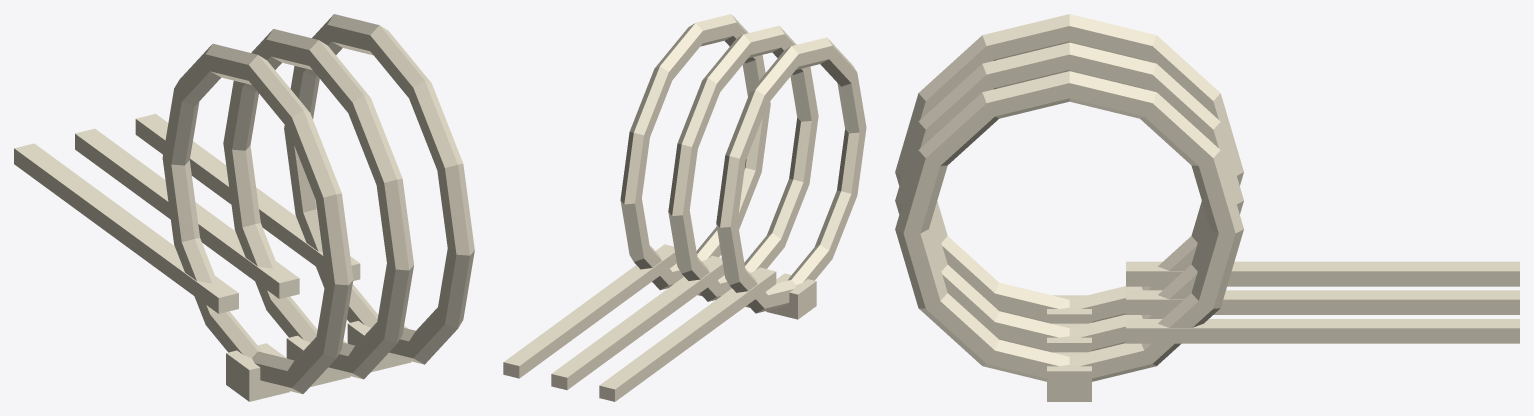
The model's file is Tool_ZipTies.fbx.
3 views of the same model, side by side, from view 1: azimuth 30°, elevation 25°; view 2: azimuth 150°, elevation 25°; view 3: azimuth 270°, elevation 25° (orthographic). The views are drawn at different scales.
Parts seen in each view (by area): view 1: Loop, Loop.001, Loop.002, Tail, Tail.001, Tail.002, Head, Head.001, Head.002; view 2: Loop, Loop.001, Loop.002, Tail, Tail.002, Tail.001, Head; view 3: Loop.002, Loop.001, Loop, Tail.002, Tail, Tail.001, Head.002, Head.001, Head.
Boxes of the visible parts, x1,y1,x2,y2 form: Loop: [162, 44, 353, 393]; Loop.001: [223, 29, 413, 379]; Loop.002: [284, 14, 474, 364]; Tail: [14, 143, 238, 313]; Tail.001: [75, 128, 299, 298]; Tail.002: [135, 114, 360, 280]; Head: [226, 343, 289, 401]; Head.001: [286, 335, 350, 386]; Head.002: [347, 321, 411, 372]; Loop: [716, 37, 866, 313]; Loop.001: [668, 26, 818, 301]; Loop.002: [620, 14, 770, 290]; Tail: [599, 267, 776, 401]; Tail.002: [503, 244, 676, 378]; Tail.001: [551, 256, 724, 390]; Head: [766, 273, 816, 319]; Loop.002: [895, 71, 1243, 381]; Loop.001: [895, 42, 1243, 351]; Loop: [895, 14, 1243, 322]; Tail.002: [1126, 319, 1519, 343]; Tail: [1126, 261, 1519, 286]; Tail.001: [1126, 290, 1519, 314]; Head.002: [1047, 352, 1091, 401]; Head.001: [1047, 323, 1091, 352]; Head: [1047, 295, 1091, 323].
Size of the model in its own units: 0.032 by 0.063 by 0.111.
